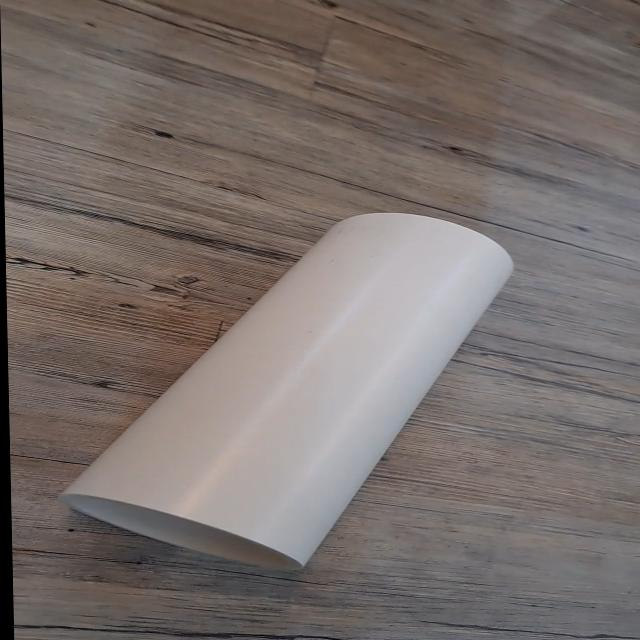CORAL: (38, 206, 538, 574)
